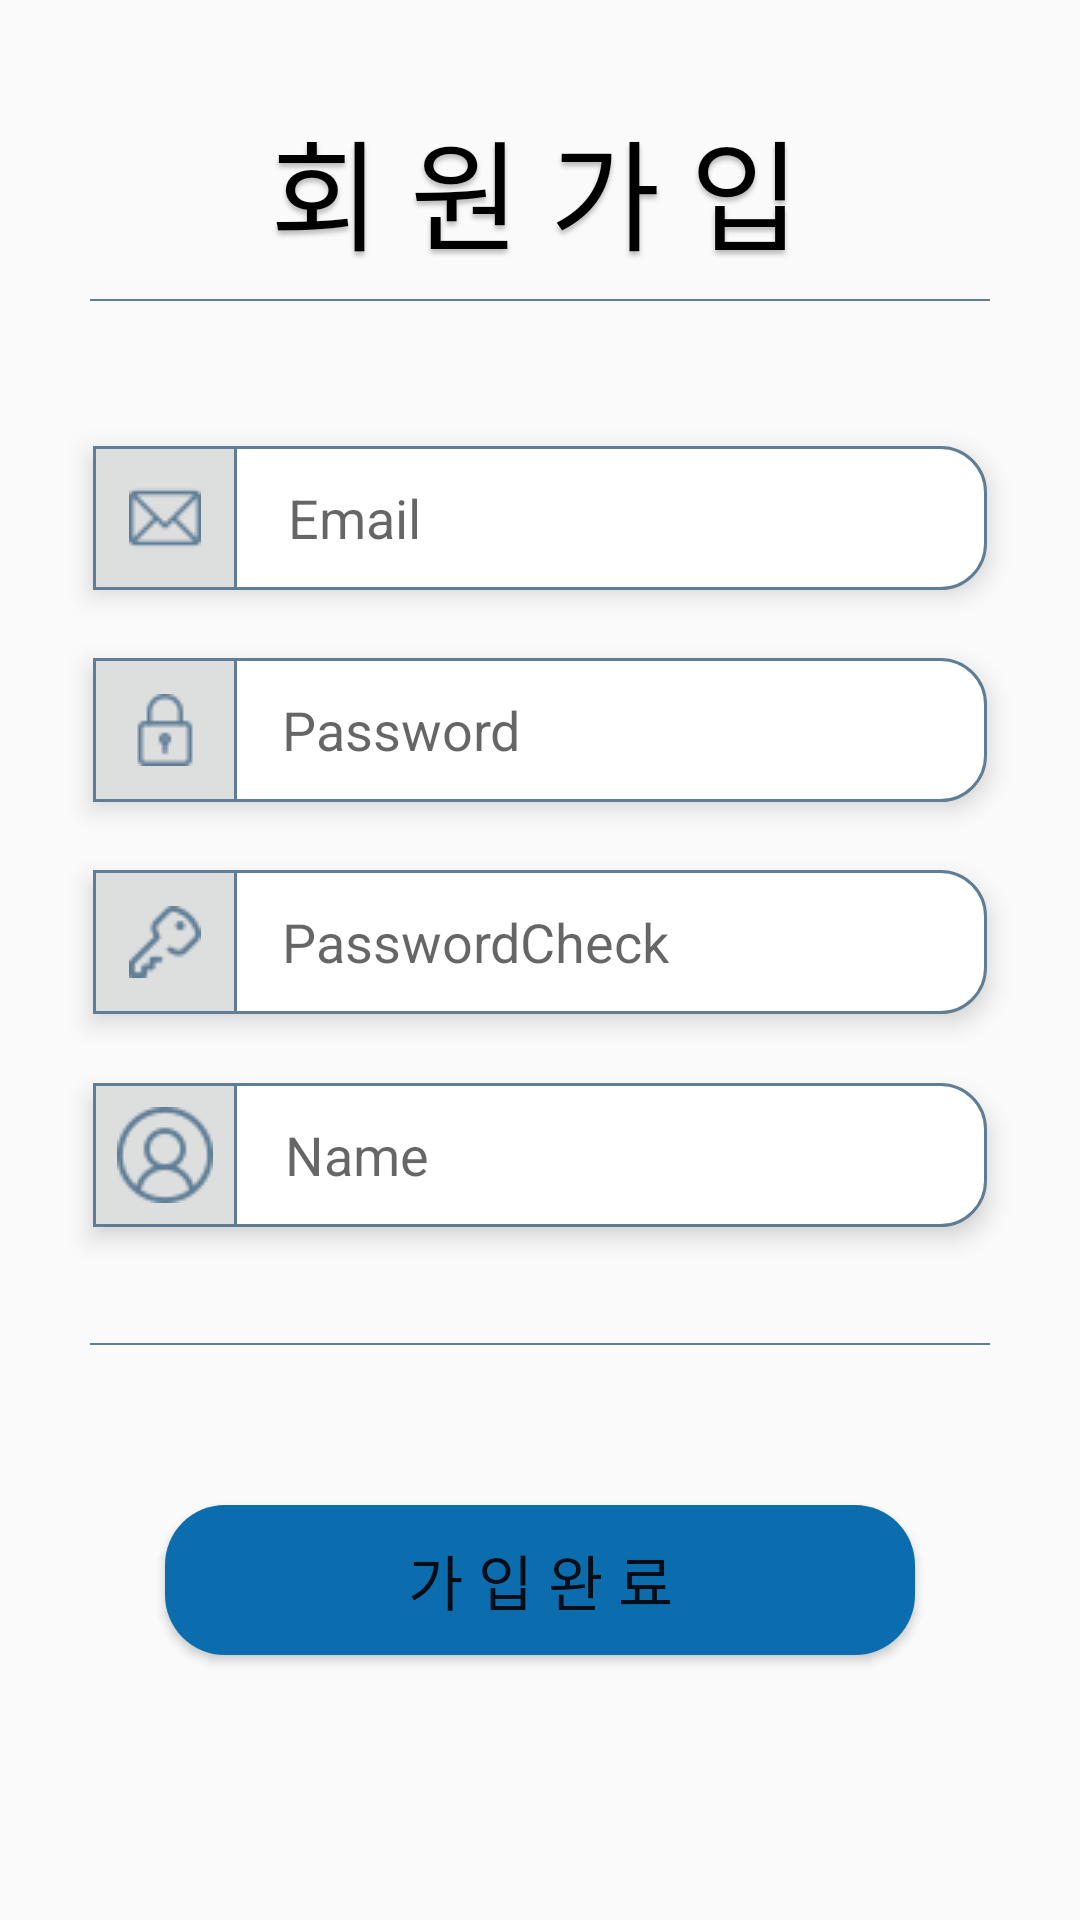

Screen size 1080 x 1920. Icon name, then its box in pixels as (x1, y1, x2, y2):
key: (129, 906, 201, 978)
lock: (137, 694, 193, 766)
user: (117, 1107, 213, 1203)
